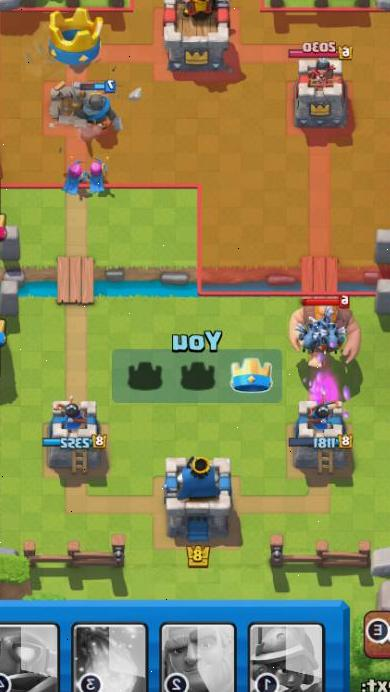enemy_giant: (278, 291, 371, 373)
player_archers: (85, 157, 116, 198), (61, 158, 85, 198)
player_knight: (74, 79, 124, 129)
player_minions: (295, 316, 324, 352), (322, 323, 343, 352)
